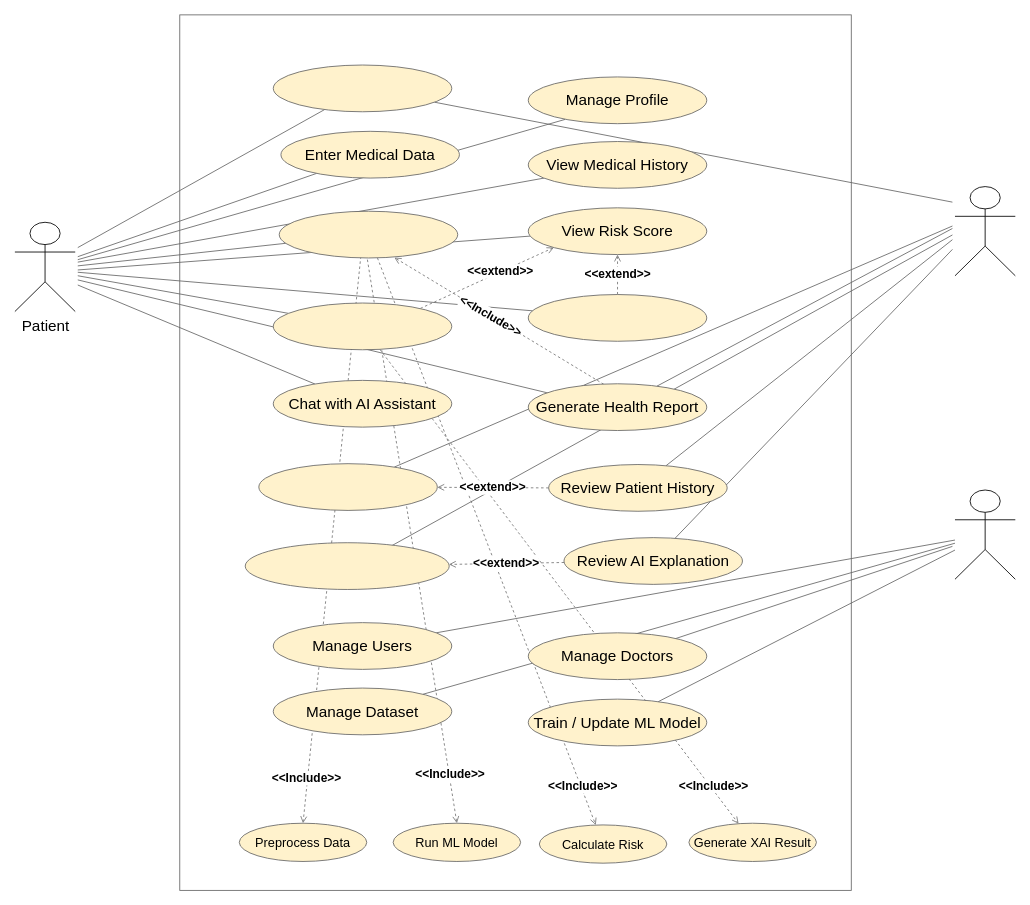
The diagram is 1030 pixels wide and 905 high, and some of its shapes have lost their labels. Here are the shapes that lost their labels. From the top down, the centre of each, then its label:
At point 362,88: "Register / Login".
At point 368,234: "Predict Heart Disease".
At point 984,231: "Doctor".
At point 362,326: "View AI Explanation".
At point 617,317: "View Recommendations".
At point 347,486: "View Patient Data".
At point 984,534: "Admin".
At point 346,565: "View Heart Disease Prediction".
